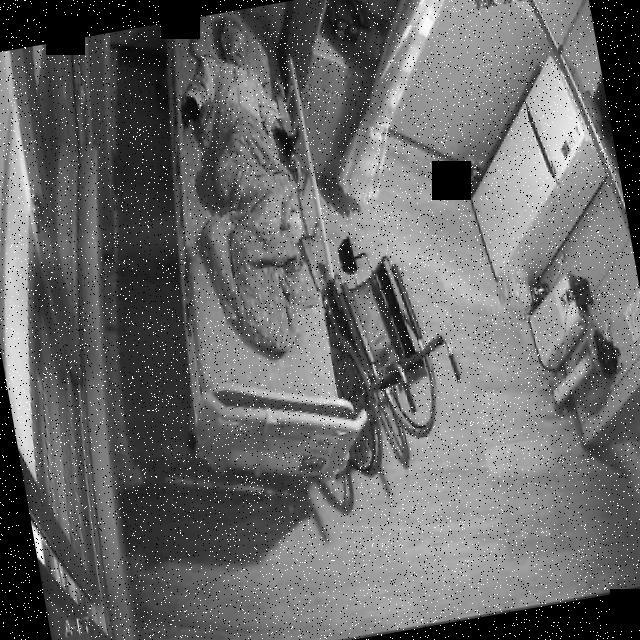bed: (125, 5, 366, 498)
lie: (165, 7, 330, 365)
patient: (166, 9, 296, 174)
